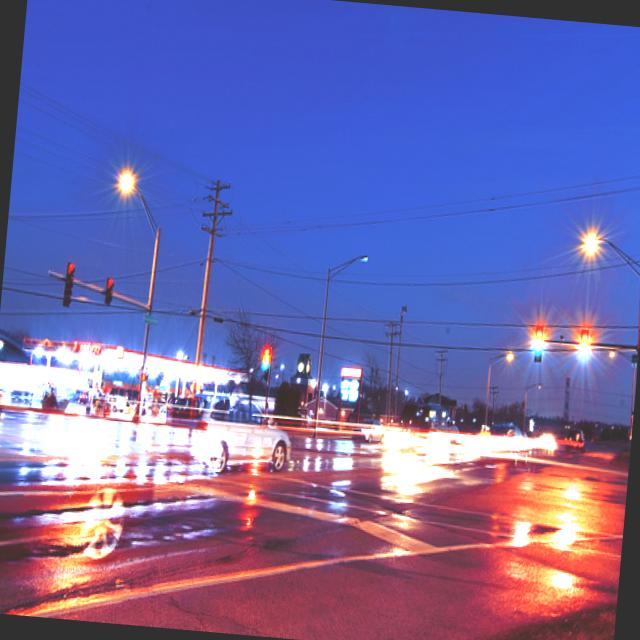Vehicle: (186, 391, 294, 479), (350, 417, 388, 445), (490, 422, 522, 437), (0, 380, 11, 412), (181, 397, 197, 417), (106, 396, 124, 412), (72, 389, 88, 404)
